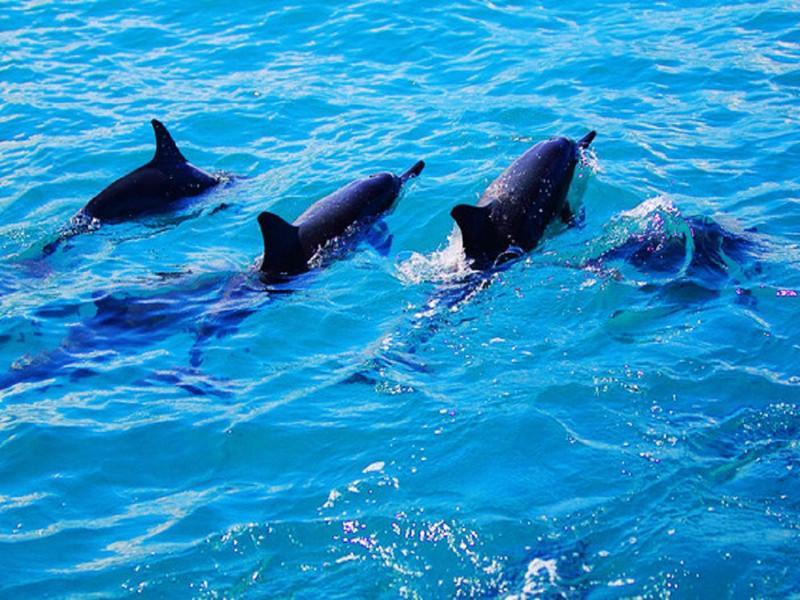fish: (344, 127, 603, 384), (190, 159, 425, 368), (27, 118, 258, 270)
